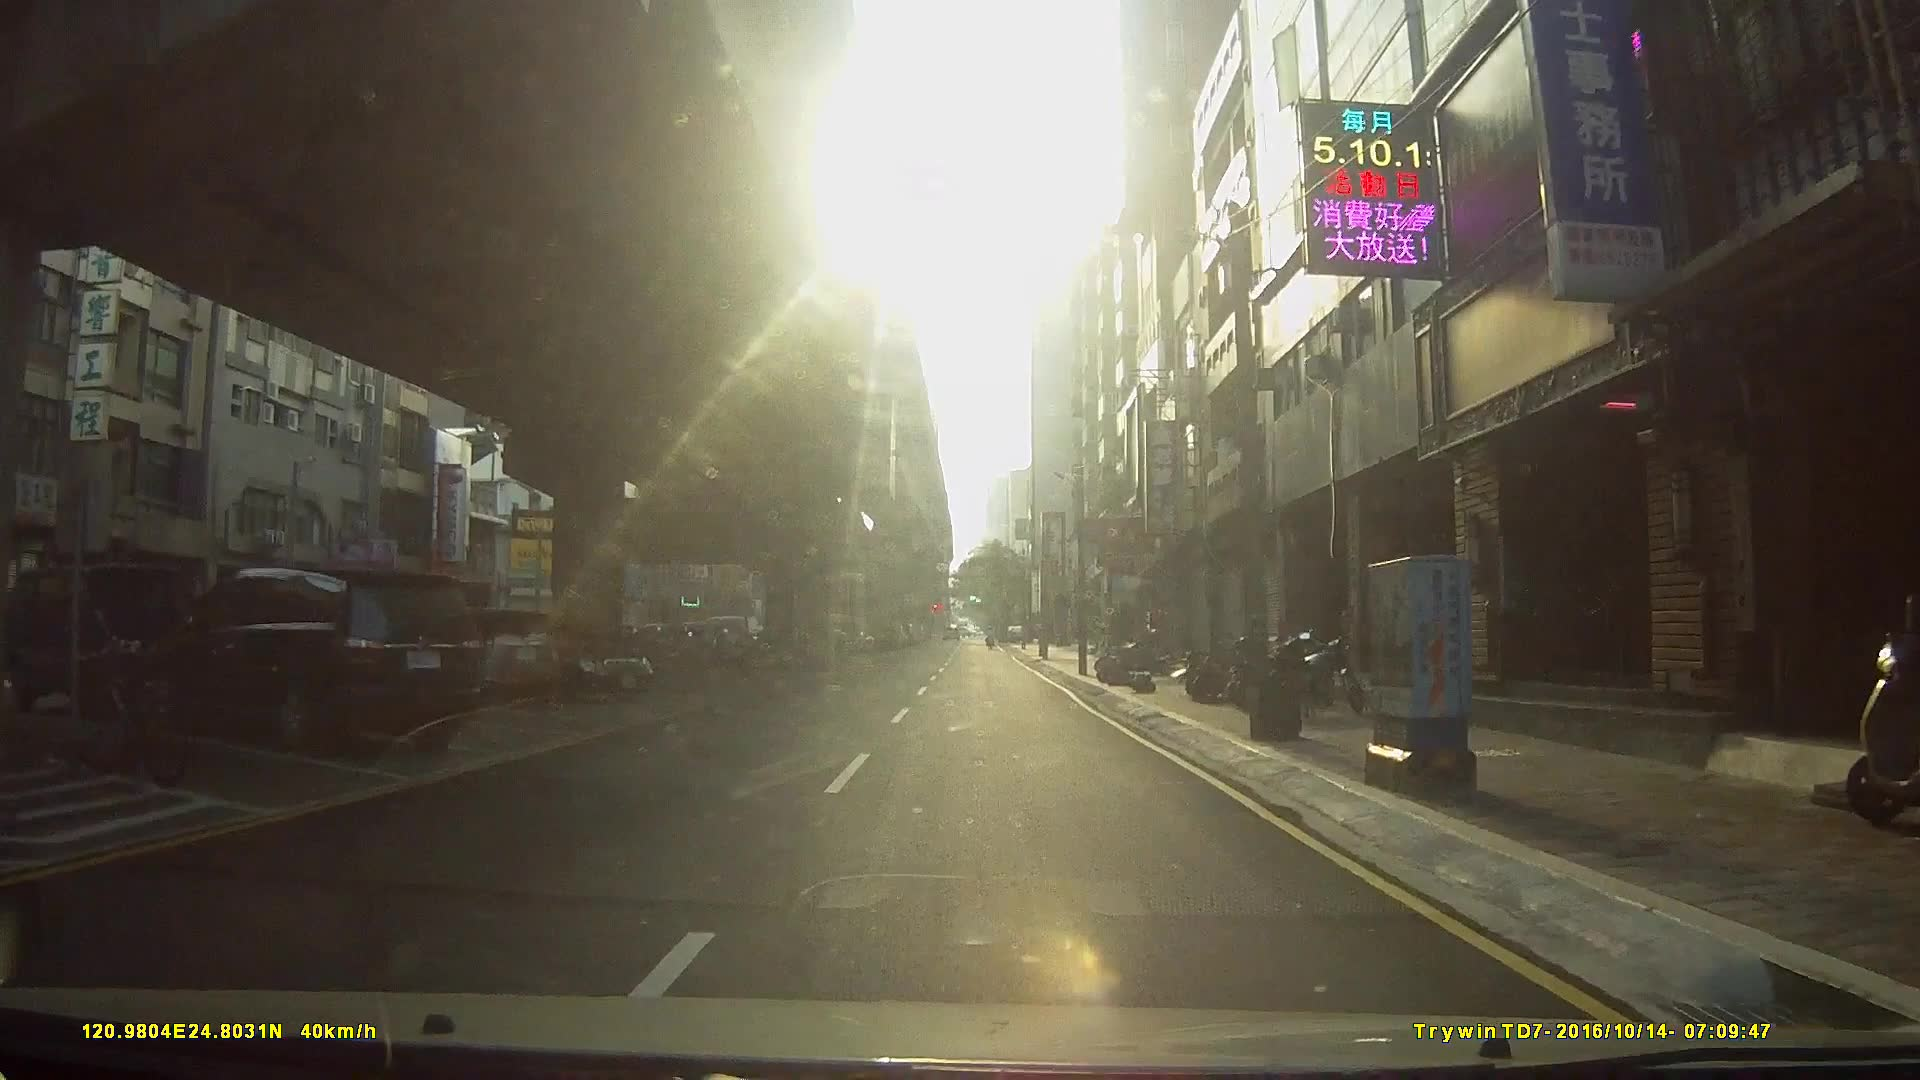vehicle: (128, 563, 480, 752), (0, 560, 214, 721), (393, 607, 562, 704), (484, 618, 653, 702)
